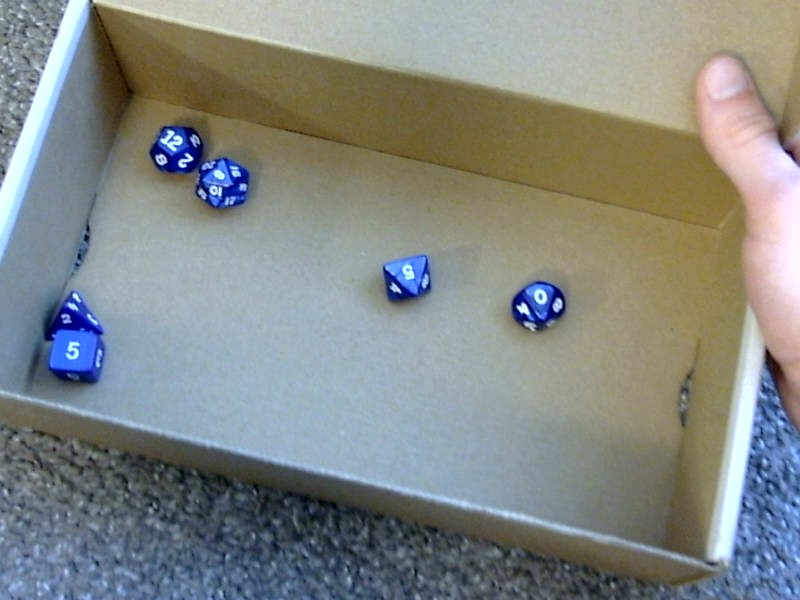d10 10: (509, 283, 570, 334)
d12 12: (145, 116, 205, 175)
d20 8: (194, 154, 258, 208)
d4 2: (44, 287, 101, 335)
d6 5: (50, 334, 106, 380)
d8 5: (380, 253, 439, 303)
